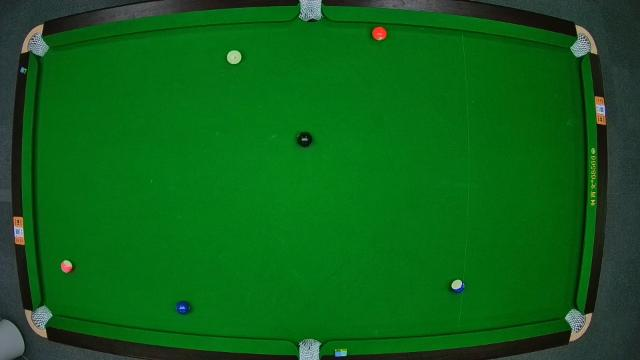bag1: (28, 33, 48, 55)
bag2: (300, 1, 322, 23)
bag3: (574, 36, 594, 56)
bag4: (32, 306, 52, 328)
bag5: (296, 340, 322, 360)
bag6: (565, 310, 585, 332)
ball0: (227, 50, 243, 66)
ball10: (450, 279, 466, 295)
ball12: (60, 260, 72, 274)
ball2: (176, 300, 192, 314)
ball5: (372, 25, 388, 41)
ball8: (297, 132, 313, 148)
